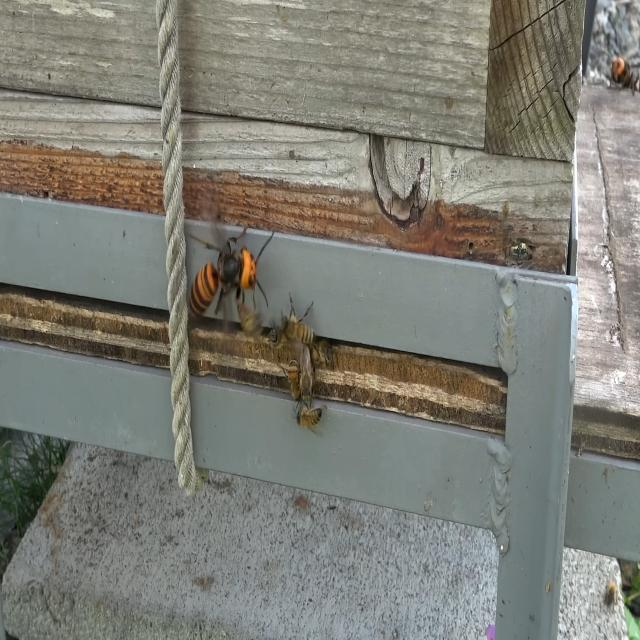Bees: (277, 292, 318, 345), (294, 344, 318, 409), (294, 401, 327, 437)
Hornets: (185, 224, 274, 332), (594, 42, 639, 102)
